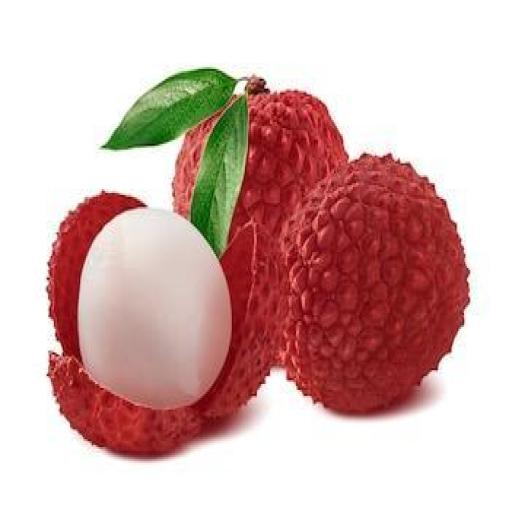lychee: (49, 223, 277, 452), (282, 156, 468, 411), (230, 85, 347, 240)
